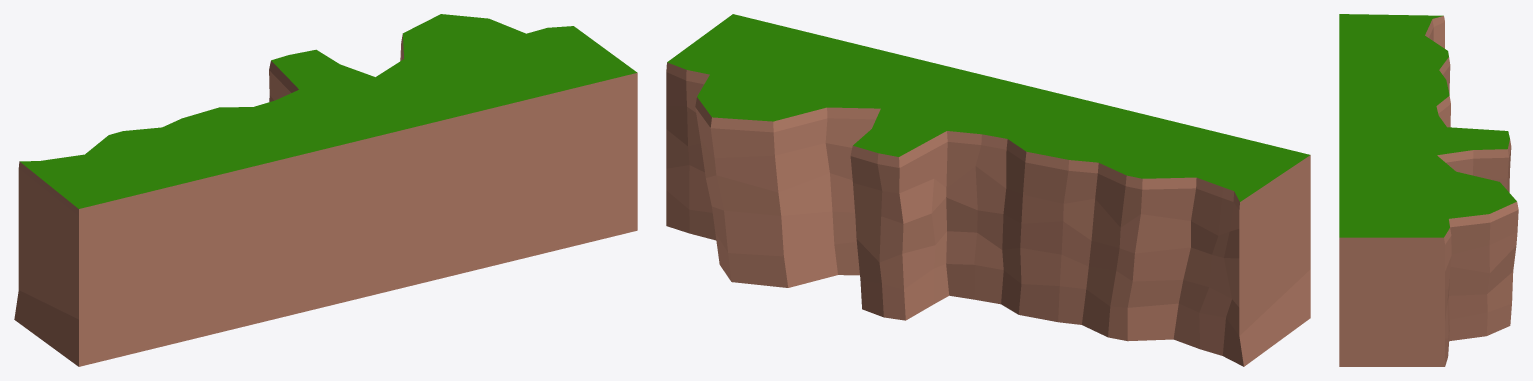
File: Cliff_1.fbx
3 renders of one model, left to right at view 1: azimuth 30°, elevation 25°; view 2: azimuth 150°, elevation 25°; view 3: azimuth 270°, elevation 25°, orthographic. The views are drawn at different scales.
Parts seen in each view (by area): view 1: Plane; view 2: Plane; view 3: Plane.
Part boxes in pixels (x1=…): Plane: x1=14, y1=14, x2=637, y2=366; Plane: x1=666, y1=14, x2=1310, y2=366; Plane: x1=1339, y1=14, x2=1518, y2=366.
Size of the model in its own units: 100 by 27.39 by 33.91.
